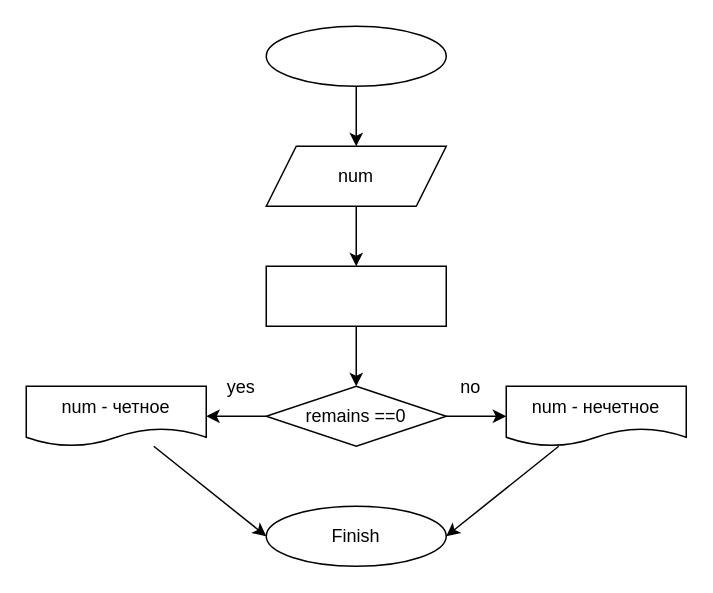
This 713x593 diagram has some shape labels left out. Each missing label, with the centre of its shape:
"remains = num%2" belongs at (355,295).
"Start" belongs at (355,55).
